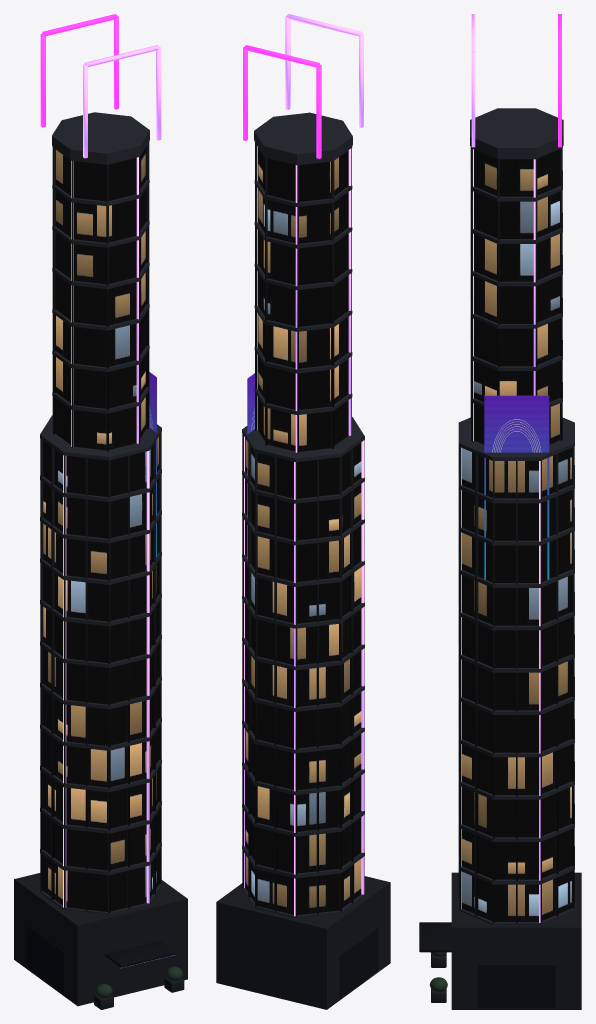
Rendered from neon-v-C.glb.
3 views of the same model, side by side, from view 1: azimuth 30°, elevation 25°; view 2: azimuth 150°, elevation 25°; view 3: azimuth 270°, elevation 25° (orthographic). The views are drawn at different scales.
Parts seen in each view (by area): view 1: Building; view 2: Building; view 3: Building.
Boxes of the visible parts, x1,y1,x2,y2 form: Building: (14,14,187,1009); Building: (216,14,390,1009); Building: (419,14,581,1009).
Size of the model in its own units: 10.1 by 80.75 by 12.5.
Materials: 9 (2 with a texture image).
